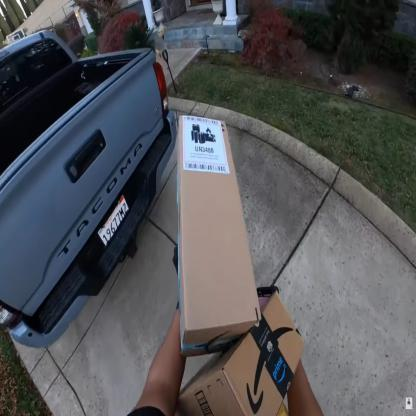package: (177, 113, 260, 363), (174, 290, 307, 416)
